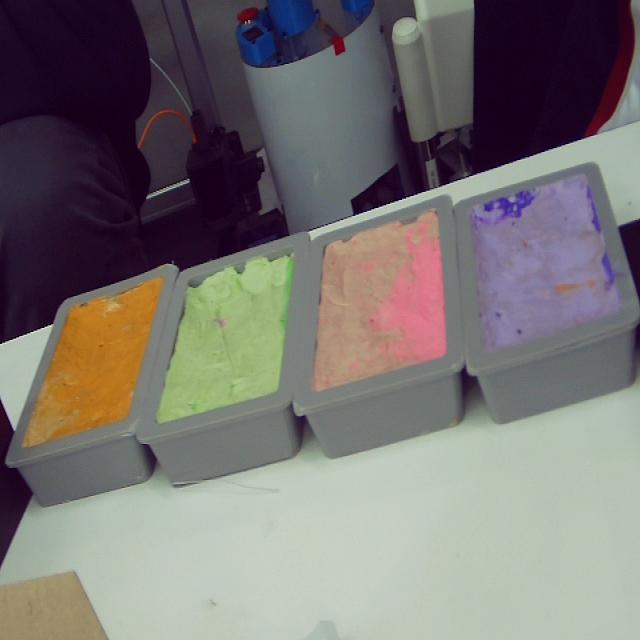block: (455, 160, 640, 426), (294, 193, 468, 457), (132, 234, 314, 485), (2, 264, 178, 506)
